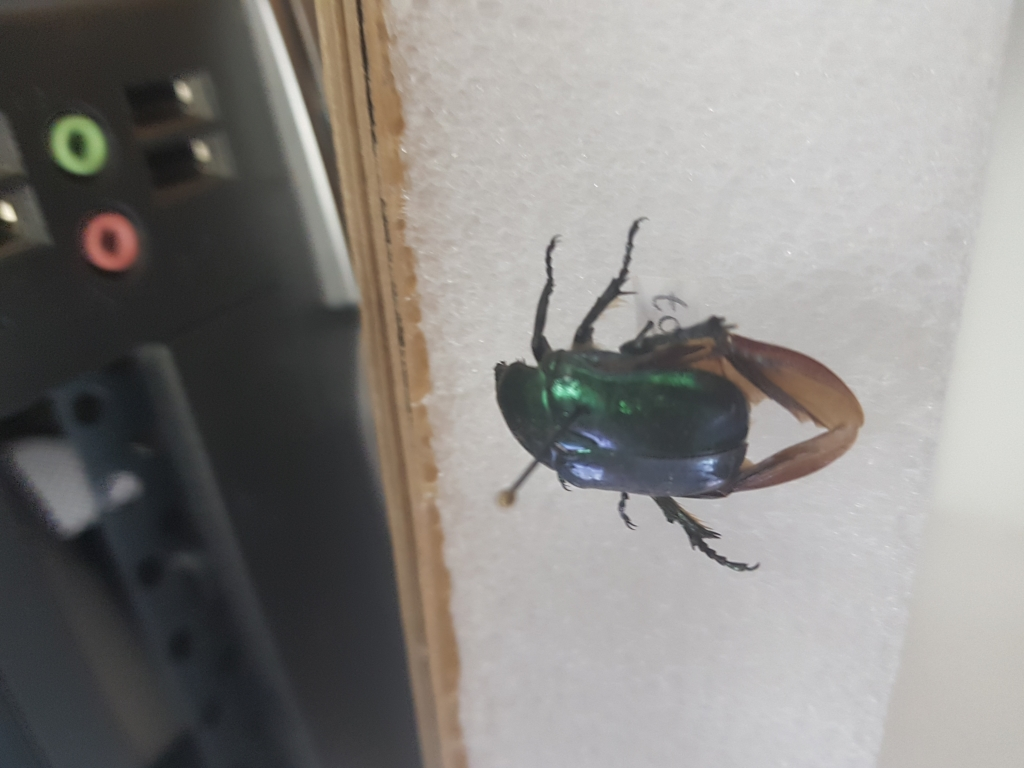Protaetia_angustata_angustata: (489, 210, 872, 577)
